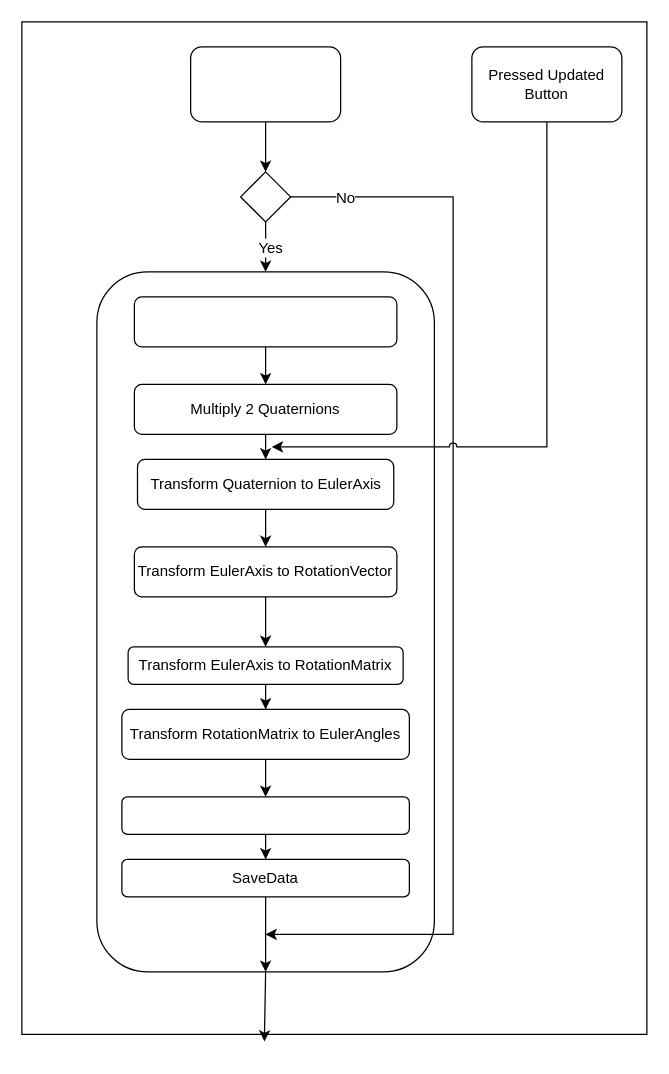
Some shapes in this 669 by 1074 pixel diagram are drawn without their labels. The box of each missing label's shape, as (x1, y1, x2, y2) in pixels:
Calculate Quaternion from 2 vectors: (133, 296, 397, 347)
Drag Event on Viewport: (189, 46, 341, 122)
RedrawCube: (121, 796, 409, 834)
